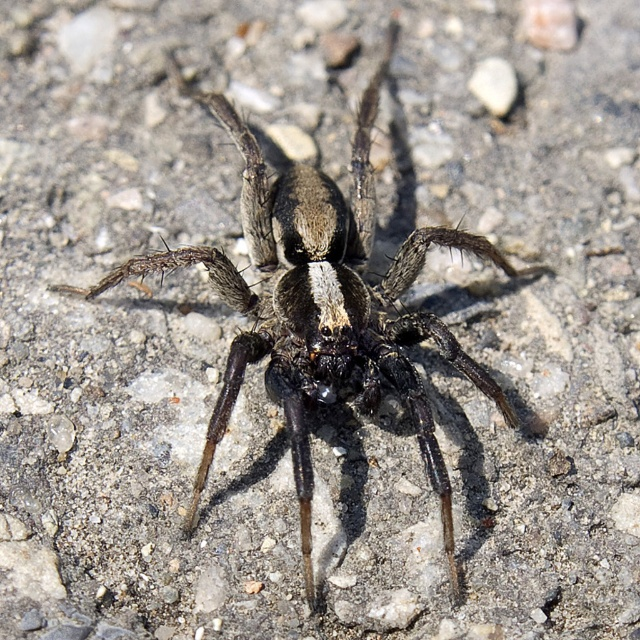Spider: (46, 19, 556, 612)
